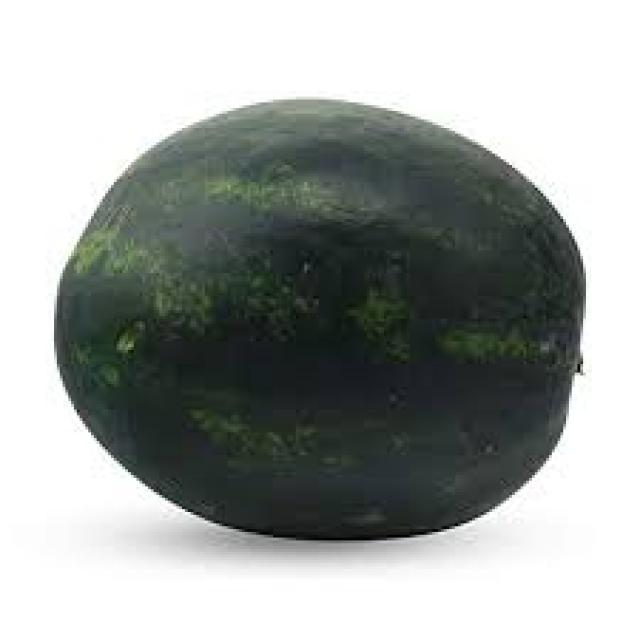Watermelon: (61, 105, 564, 540)
